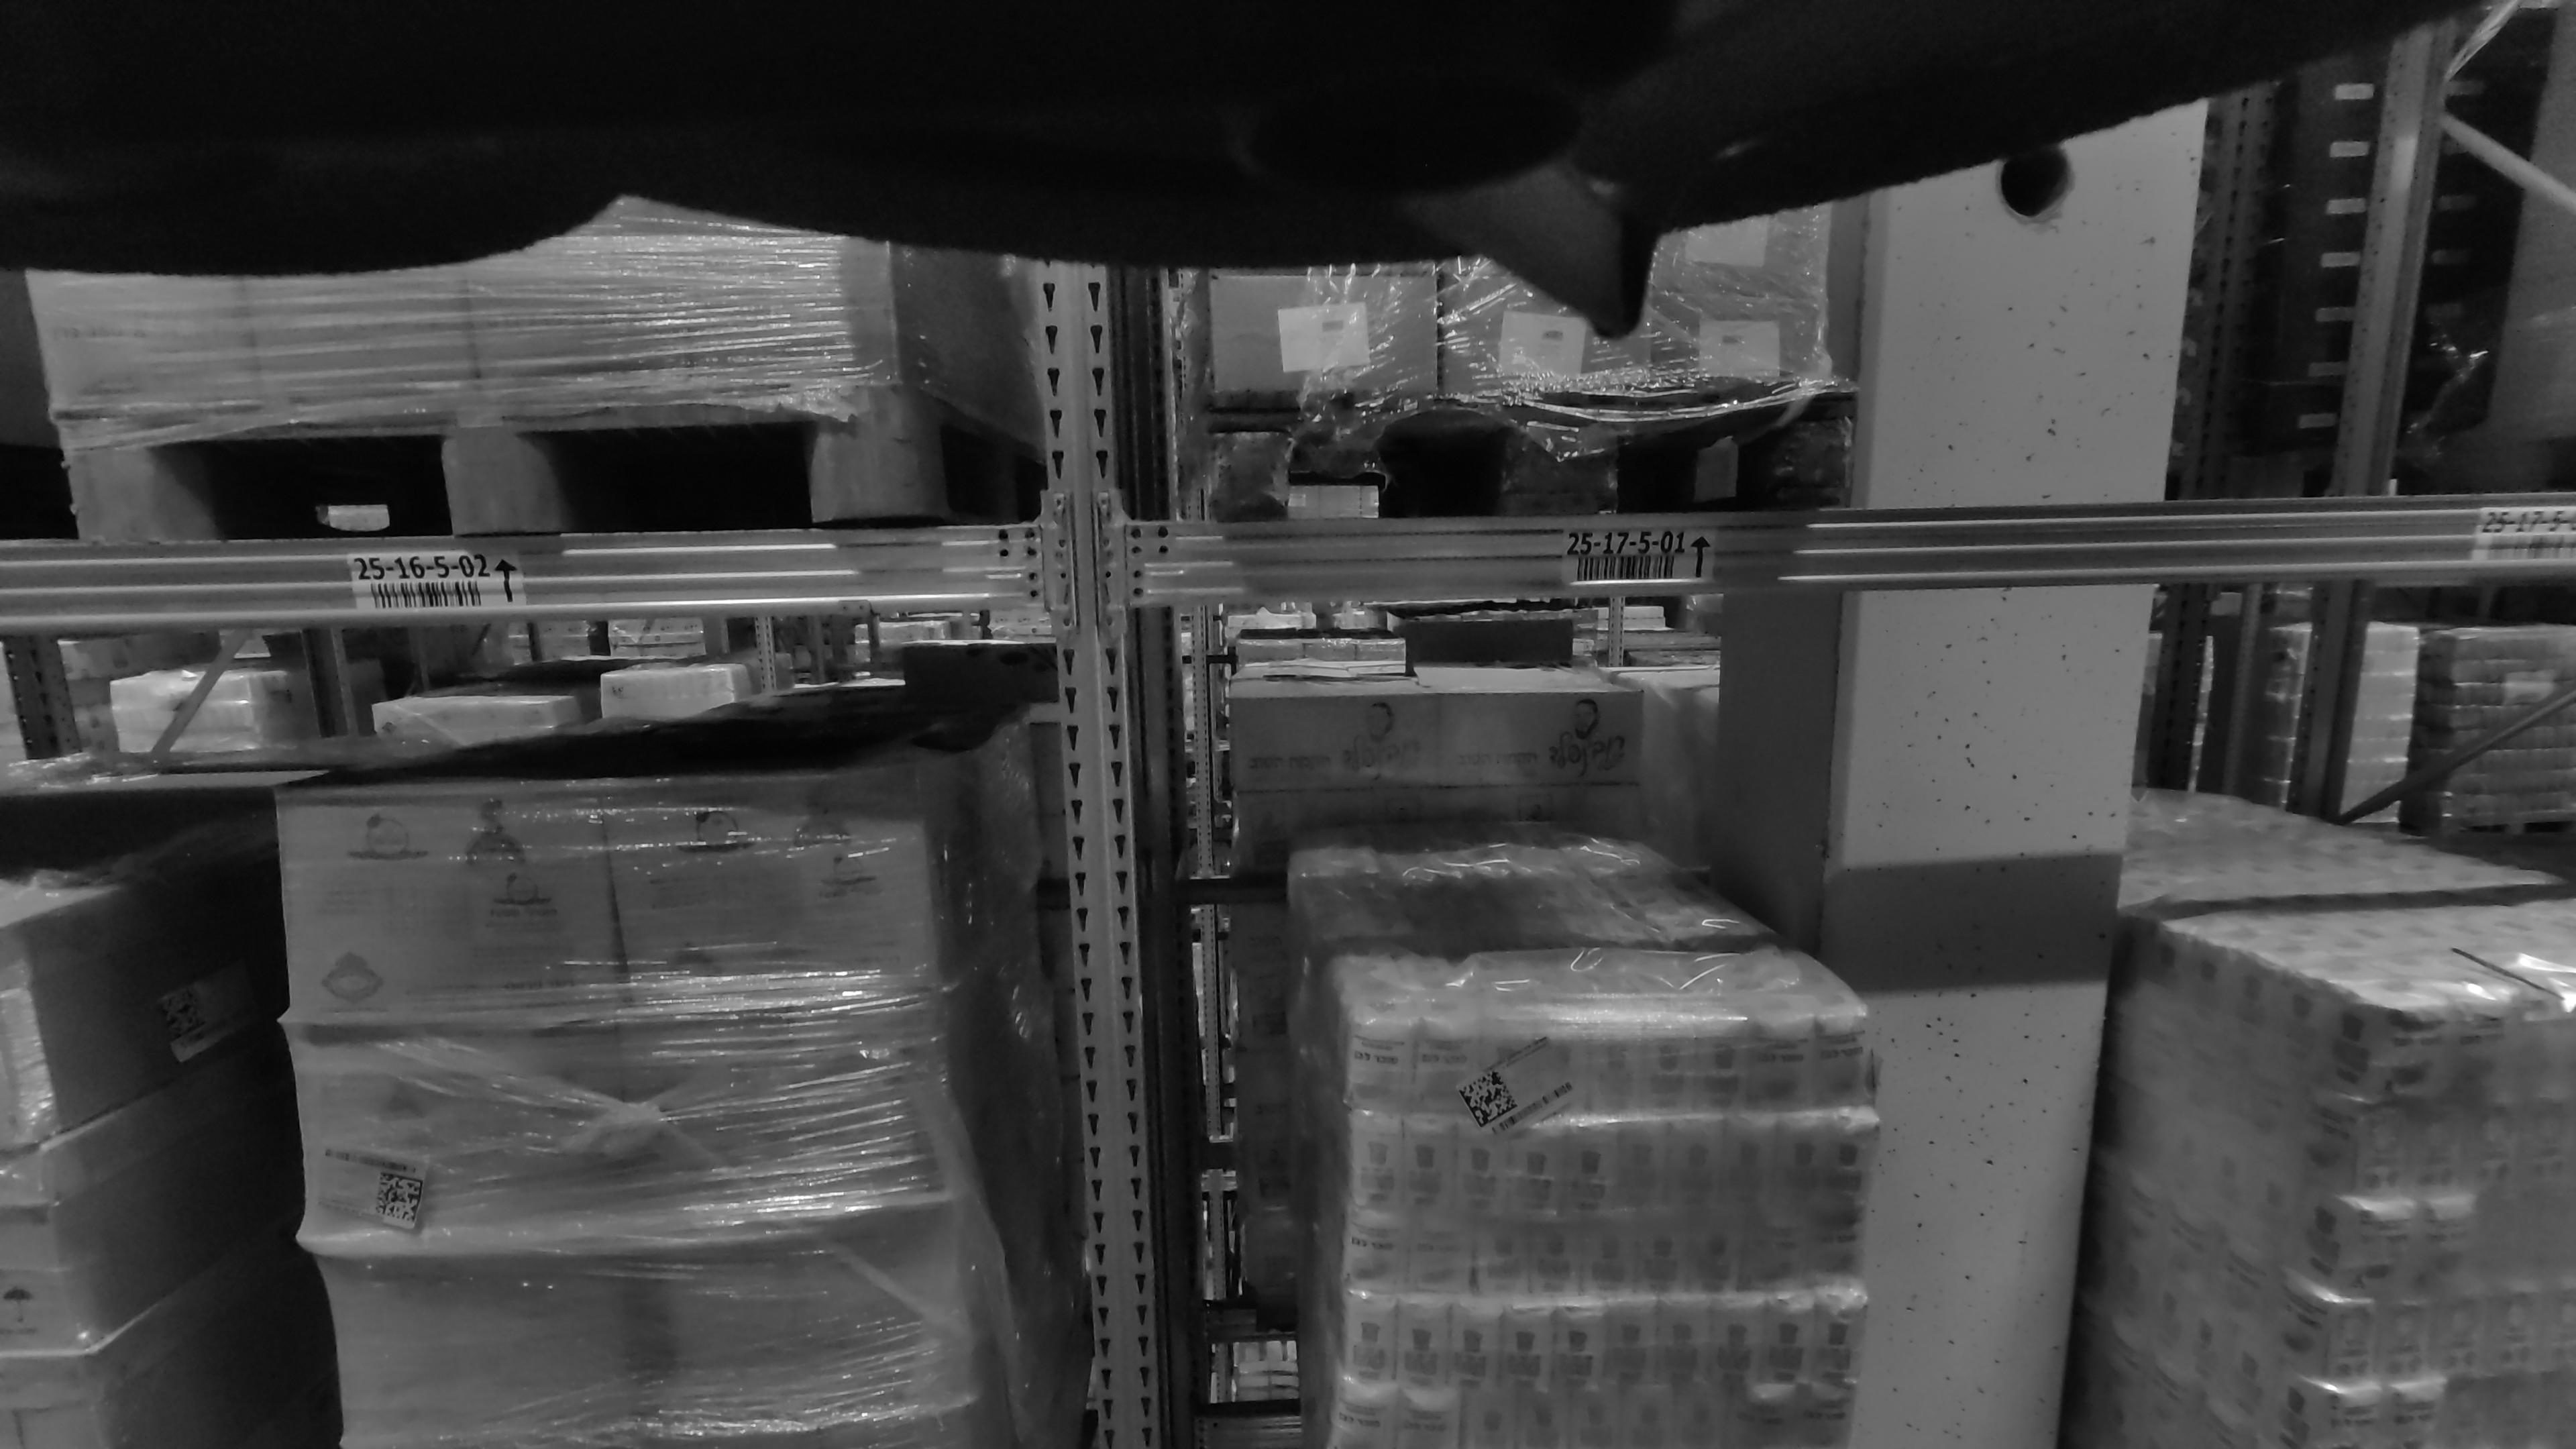empty-shelf: (2238, 0, 2576, 474)
